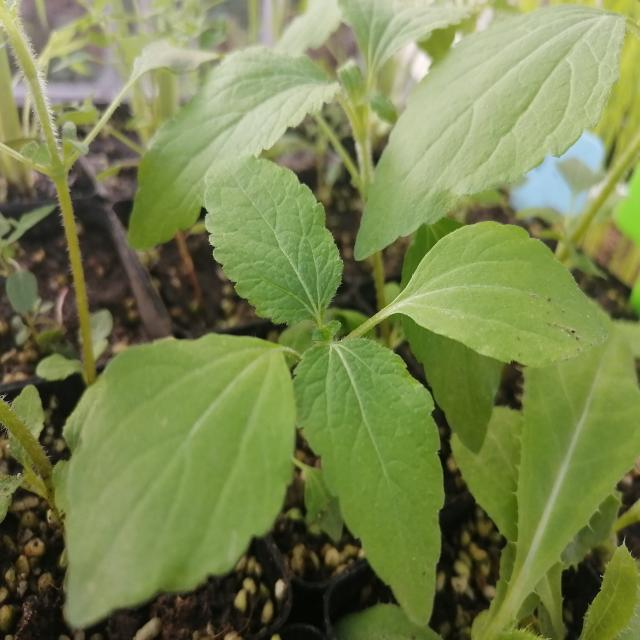billygoat_weed: (88, 97, 528, 560)
